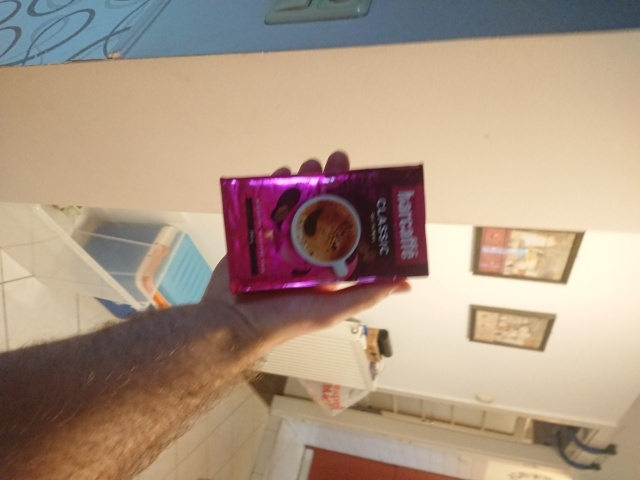Barcaffe Classic Original 225g: (216, 159, 432, 295)
